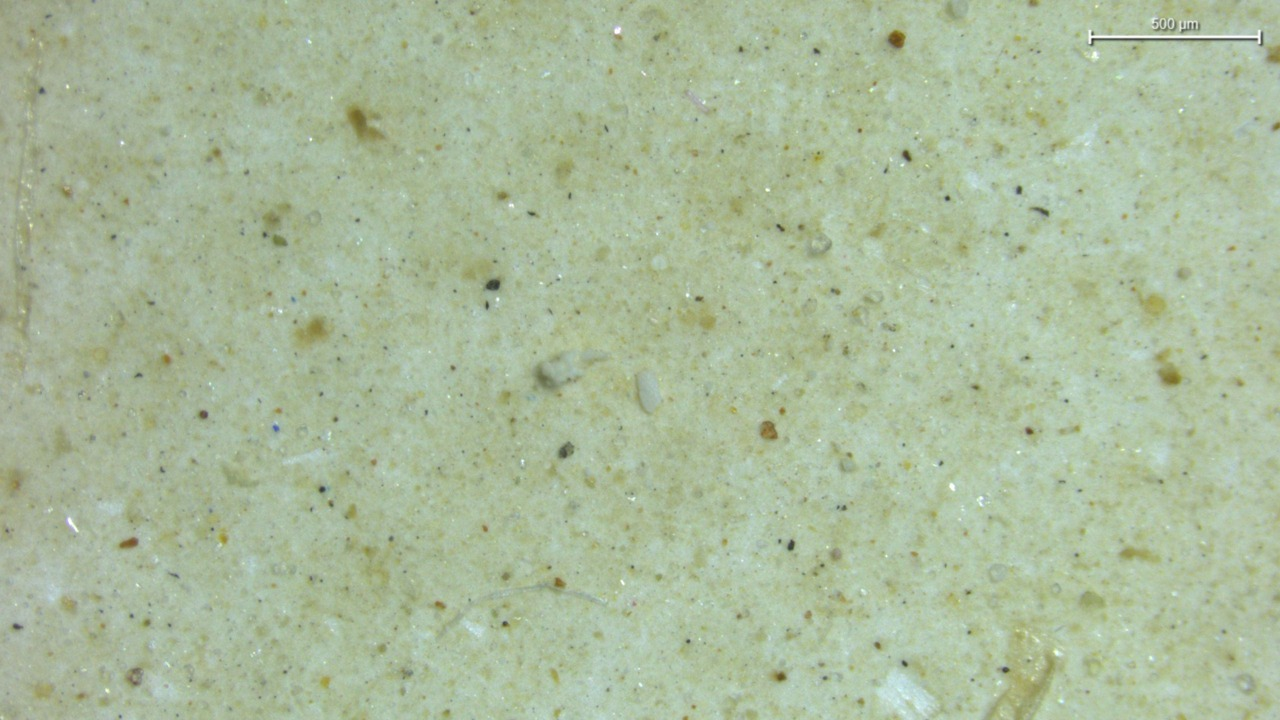microplastic_fragment: (537, 350, 610, 388), (637, 370, 662, 412)
